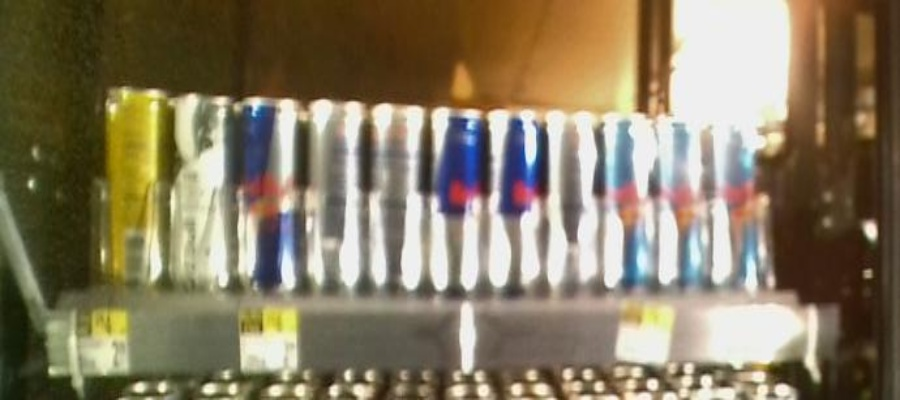bottle: (102, 56, 167, 314), (171, 81, 235, 334), (240, 83, 304, 334), (432, 90, 490, 340), (370, 86, 428, 332), (309, 77, 365, 327), (549, 88, 603, 334), (494, 77, 547, 327), (605, 86, 655, 329), (712, 103, 760, 325), (657, 98, 704, 323)
